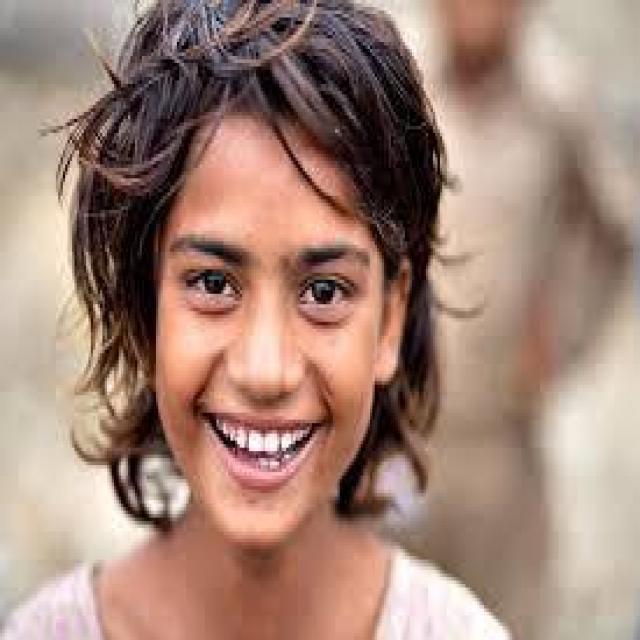person: (14, 0, 505, 637)
